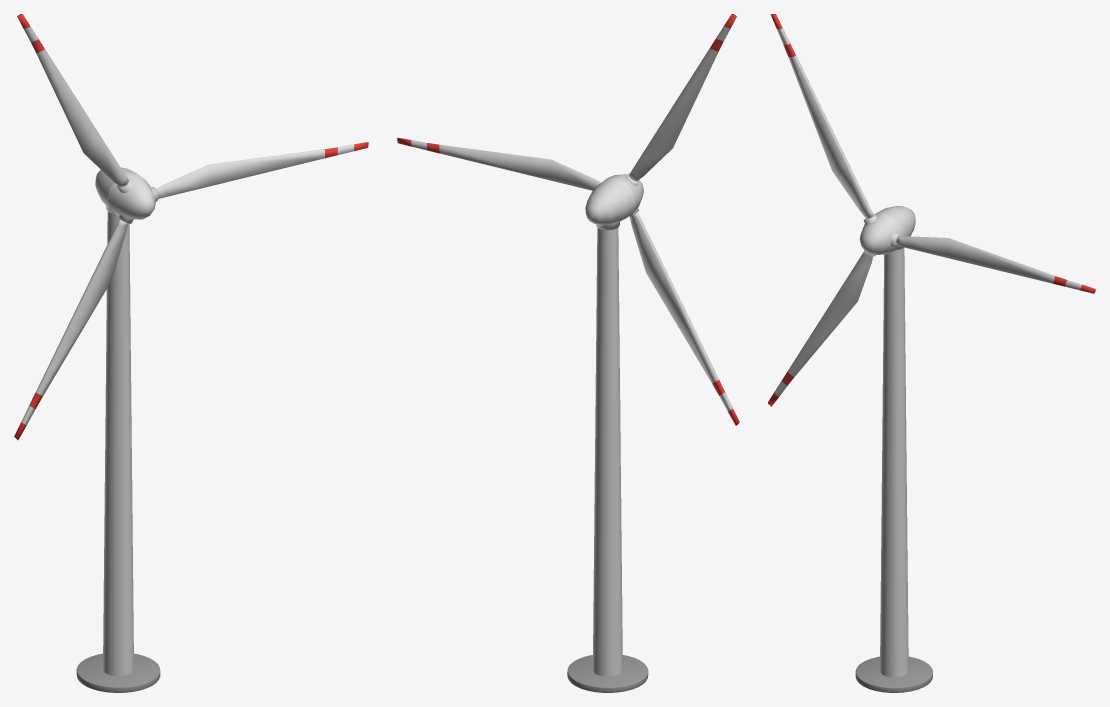
Rendered from WindTurbine.fbx.
3 views of the same model, side by side, from view 1: azimuth 30°, elevation 25°; view 2: azimuth 150°, elevation 25°; view 3: azimuth 330°, elevation 25° (orthographic). The views are drawn at different scales.
Visible parts, largest first — view 1: Wind turbine measurements; view 2: Wind turbine measurements; view 3: Wind turbine measurements.
Boxes of the visible parts, x1=… form: Wind turbine measurements: x1=14, y1=14, x2=368, y2=692; Wind turbine measurements: x1=397, y1=14, x2=739, y2=692; Wind turbine measurements: x1=768, y1=14, x2=1095, y2=692.
Bounding box in the file's own units: 4247 × 8025 × 1065.
